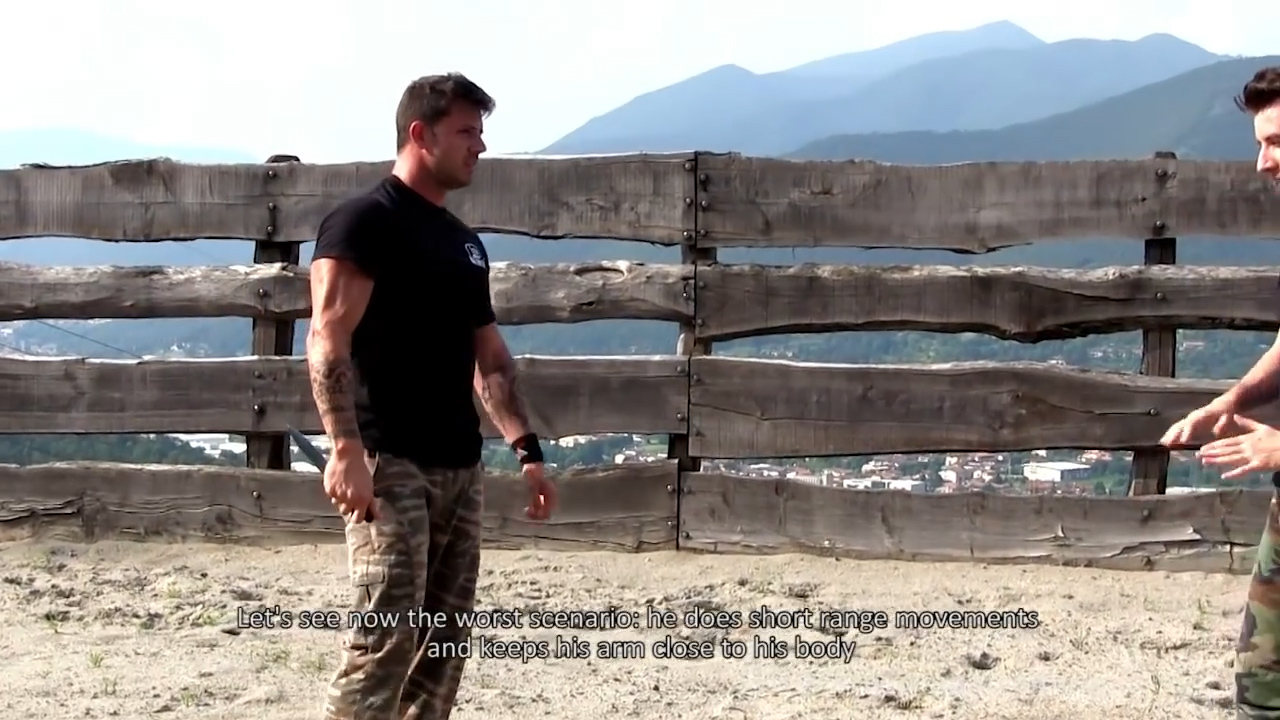knife: (274, 411, 388, 530)
